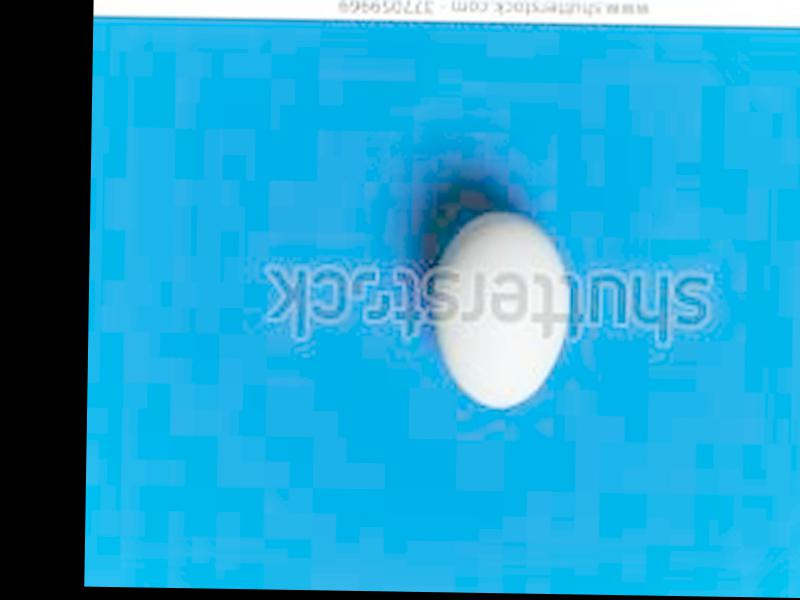Eggs: (432, 211, 567, 414)
